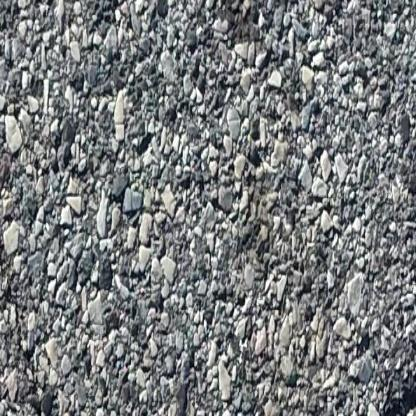Cracks: (316, 360, 416, 416)
